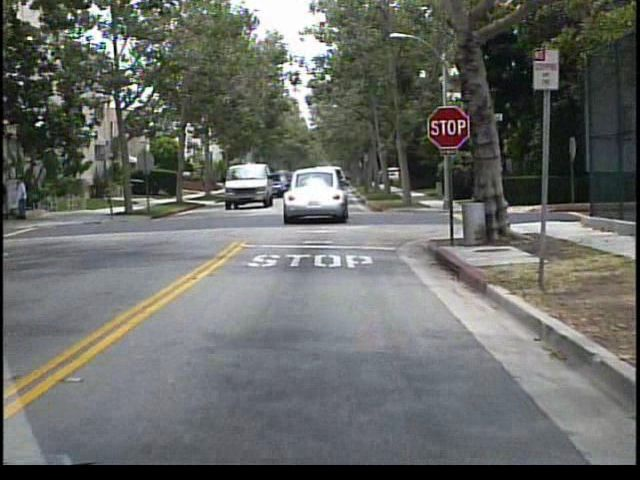person: (17, 171, 33, 223)
